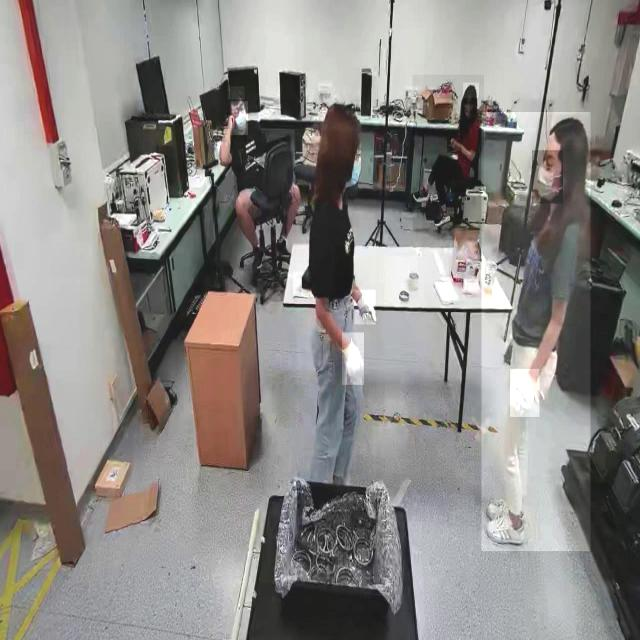face_mask: (532, 150, 563, 204), (343, 135, 368, 189), (230, 101, 248, 135)
face_nomask: (464, 100, 474, 118)
hand_glove: (510, 369, 540, 418), (342, 332, 364, 386), (354, 290, 376, 325)
hand_noglove: (446, 135, 462, 154), (226, 113, 236, 130)
head_nohelmet: (546, 115, 590, 144), (322, 102, 364, 132), (463, 82, 479, 99), (227, 86, 245, 100)
person: (481, 112, 591, 552), (296, 90, 376, 487), (412, 75, 484, 232), (216, 92, 264, 268)
shoes: (485, 510, 527, 551)
